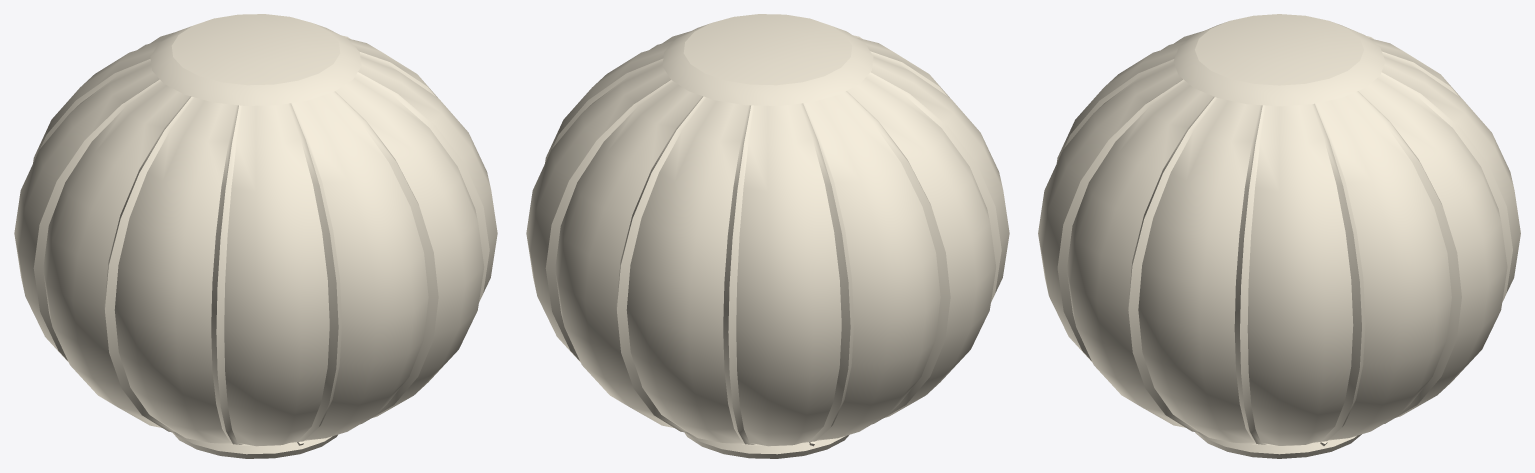
The model's file is pool_lantern.glb.
3 views of the same model, side by side, from view 1: azimuth 30°, elevation 25°; view 2: azimuth 150°, elevation 25°; view 3: azimuth 270°, elevation 25° (orthographic).
Visible parts, largest first — view 1: pool_lantern; view 2: pool_lantern; view 3: pool_lantern.
Boxes of the visible parts, <box> form: pool_lantern: <box>14,14,497,458</box>; pool_lantern: <box>526,14,1009,458</box>; pool_lantern: <box>1038,14,1520,458</box>.
Bounding box in the file's own units: 1.4 × 1.2 × 1.4.
